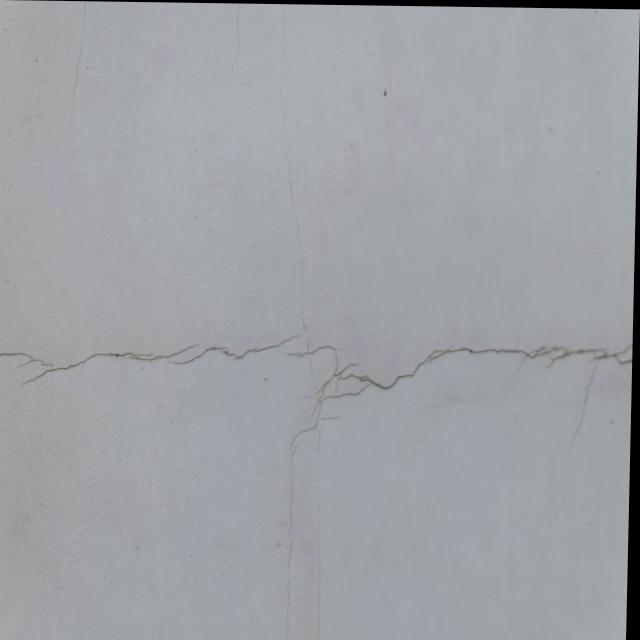crack: (0, 323, 626, 638), (271, 13, 319, 330), (64, 4, 87, 127), (223, 6, 245, 98)
